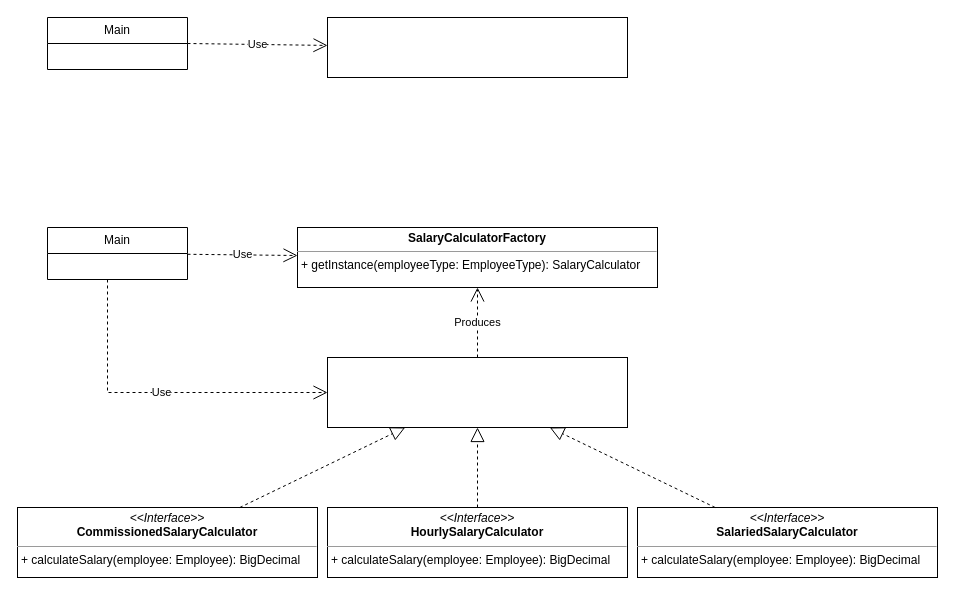
Some shapes in this 955 by 595 pixel diagram are drawn without their labels. The shapes that lost their labels are listed below. From the top down, each one's centre as x and y in pixels, then its label:
pixel 477 47: SalaryCalculator + calculateSalary(employee: Employee): BigDecimal
pixel 477 392: <<Interface>> SalaryCalculator + calculateSalary(employee: Employee): BigDecimal
